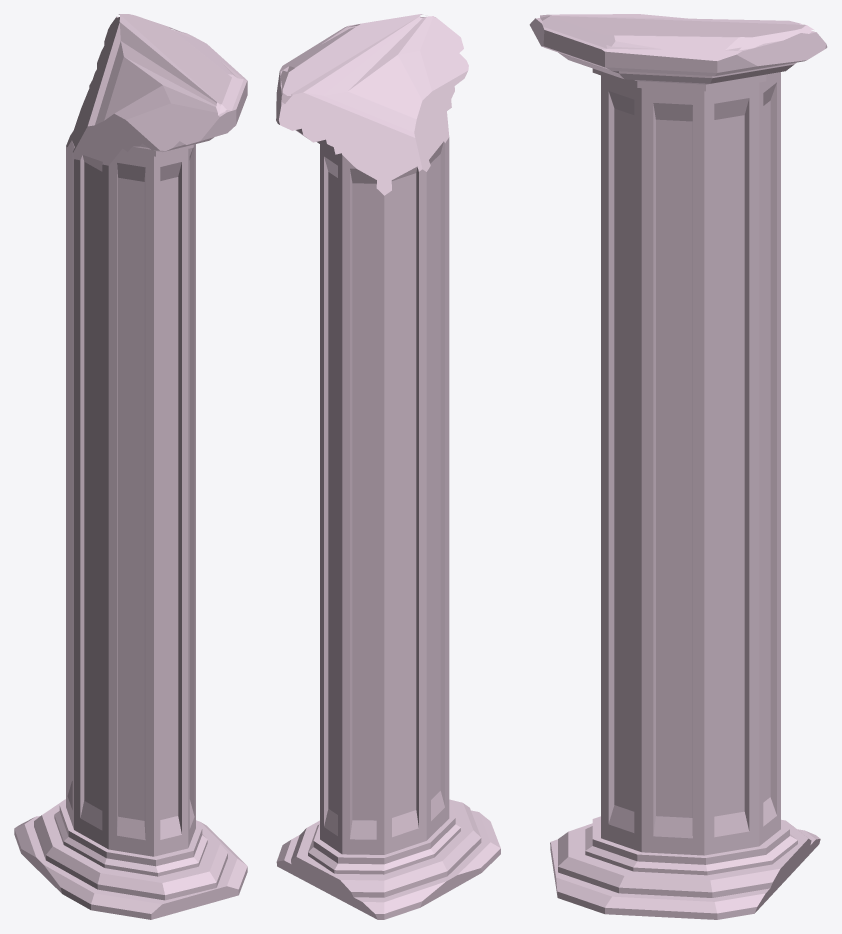
The model's file is Column_4.fbx.
3 views of the same model, side by side, from view 1: azimuth 30°, elevation 25°; view 2: azimuth 150°, elevation 25°; view 3: azimuth 270°, elevation 25° (orthographic). The views are drawn at different scales.
Visible parts, largest first — view 1: Cylinder.022; view 2: Cylinder.022; view 3: Cylinder.022.
Boxes of the visible parts, bbox=[...] form: Cylinder.022: bbox=[14, 14, 247, 919]; Cylinder.022: bbox=[276, 14, 500, 919]; Cylinder.022: bbox=[529, 14, 827, 919].
Size of the model in its own units: 130 by 576 by 179.
